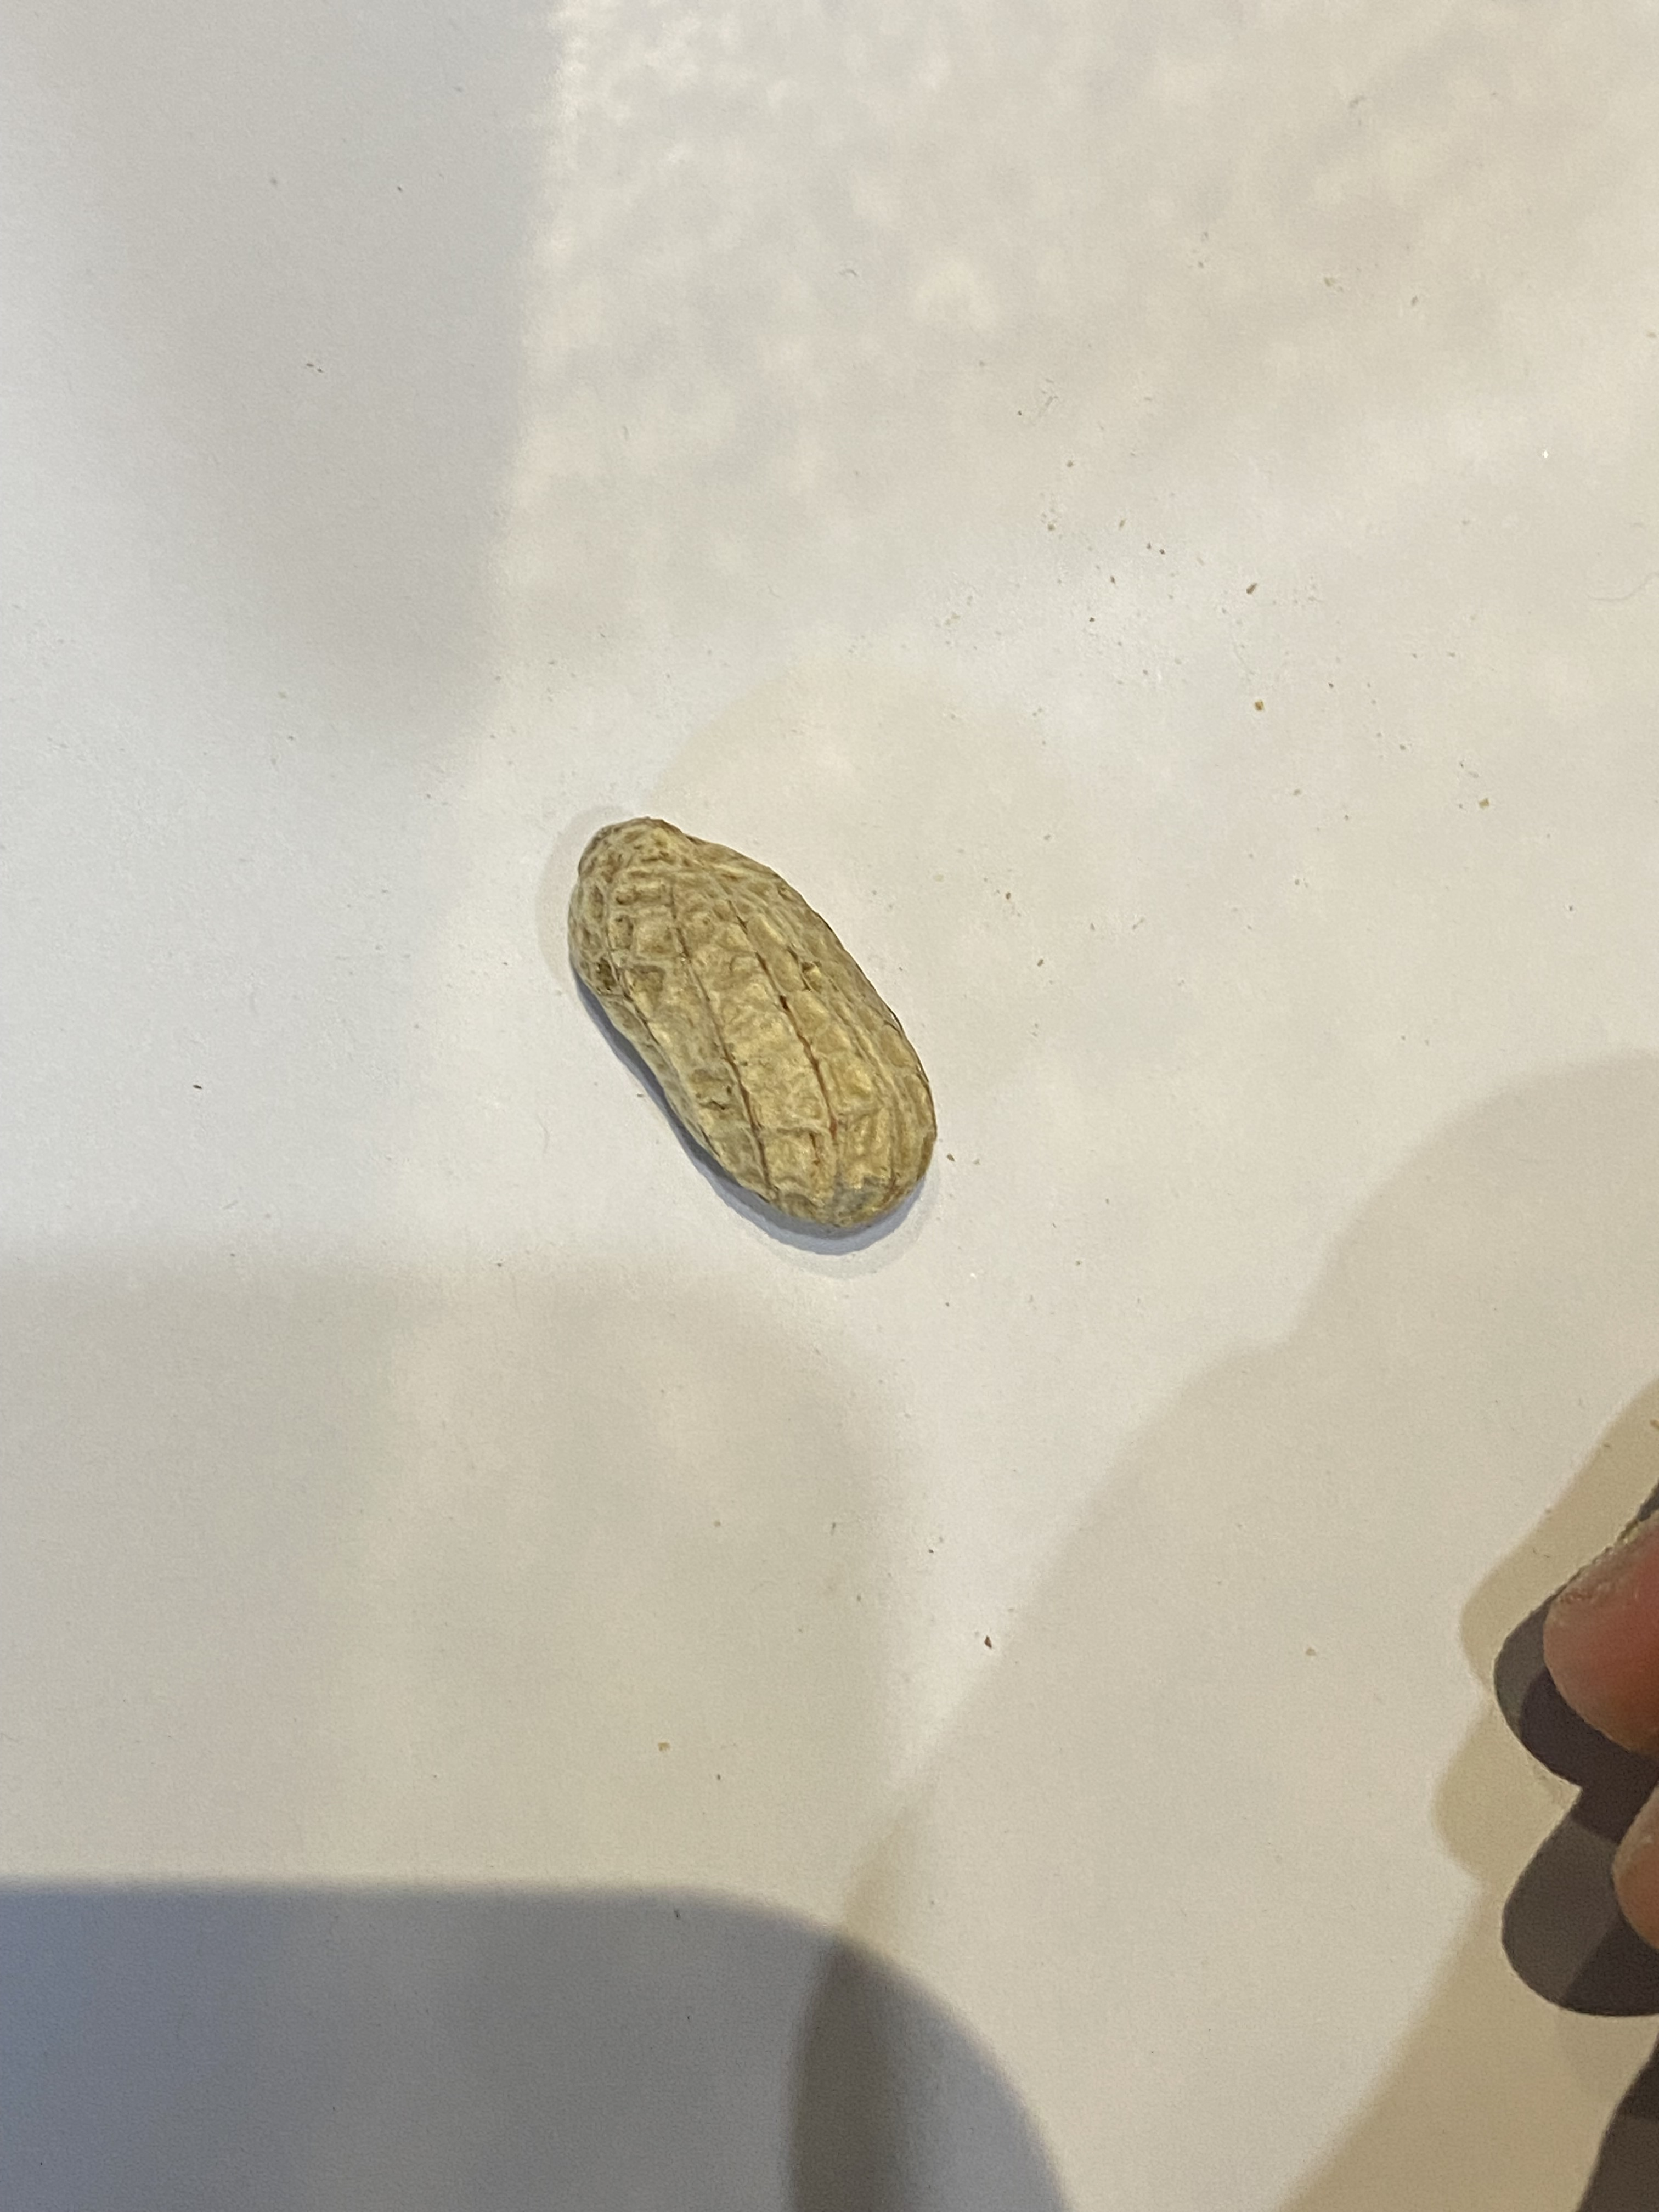kacang2: (566, 808, 938, 1251)
